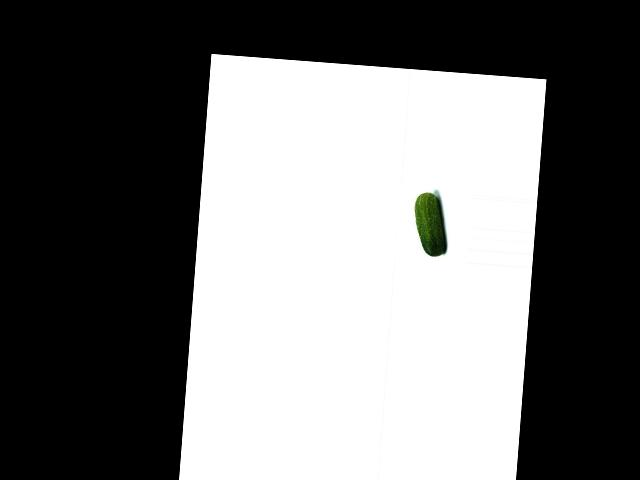cucumber: (411, 192, 449, 257)
